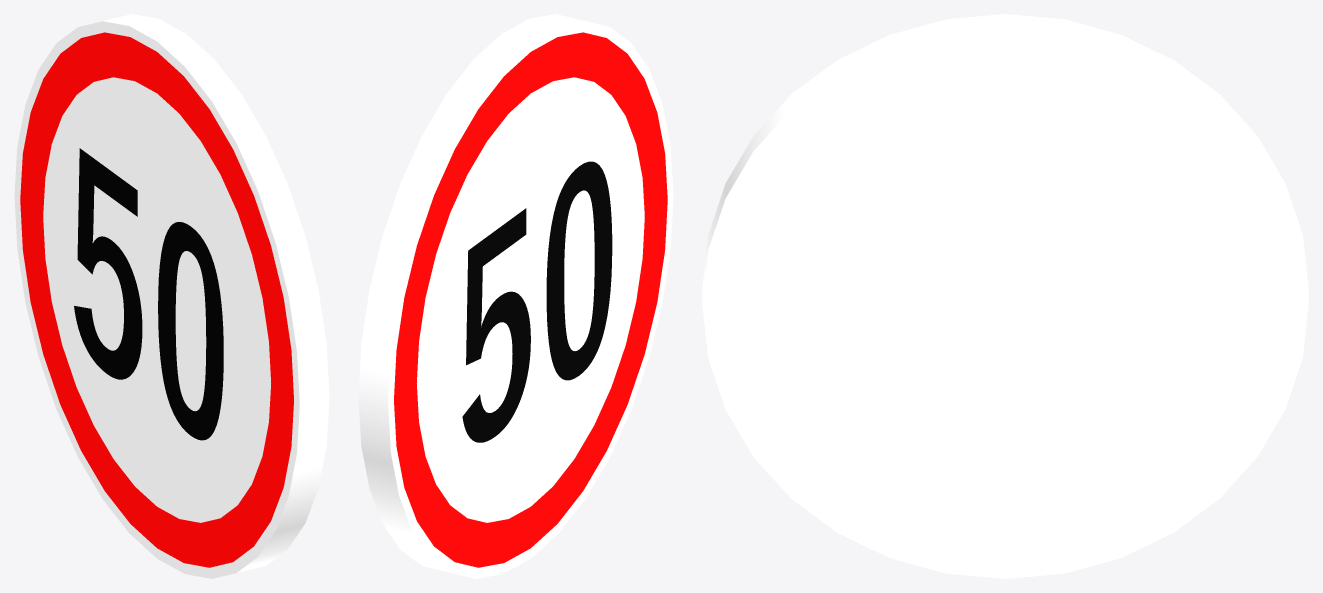
Rendered from Speed_Limit_50.glb.
3 views of the same model, side by side, from view 1: azimuth 30°, elevation 25°; view 2: azimuth 150°, elevation 25°; view 3: azimuth 270°, elevation 25° (orthographic). The views are drawn at different scales.
Parts seen in each view (by area): view 1: Speed_Limit_50; view 2: Speed_Limit_50; view 3: Speed_Limit_50.
Part boxes in pixels (bbox=[...]): Speed_Limit_50: bbox=[14, 14, 329, 578]; Speed_Limit_50: bbox=[358, 14, 673, 578]; Speed_Limit_50: bbox=[702, 14, 1308, 578].
Bounding box in the file's own units: 0.075 × 1 × 1.
